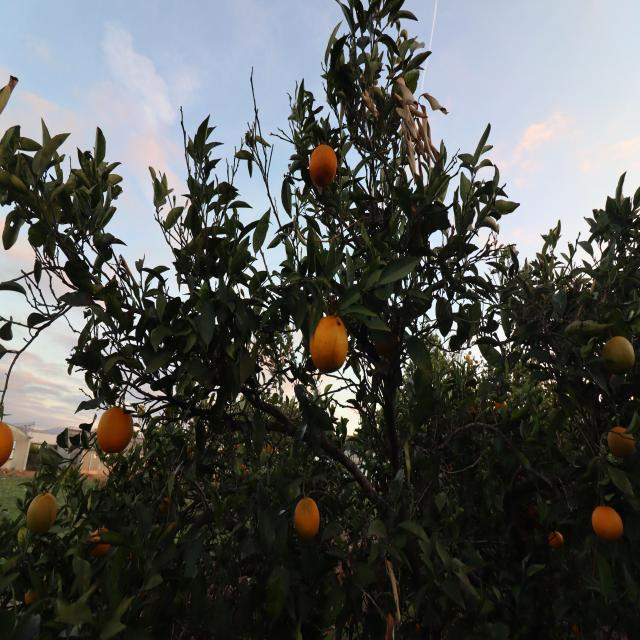Jeruk Belum Matang: (604, 337, 636, 368)
Jeruk Sudah Matang: (310, 315, 350, 375), (96, 406, 133, 454), (310, 143, 344, 191), (26, 494, 57, 534), (592, 508, 626, 540), (294, 494, 319, 536), (0, 421, 20, 468), (606, 429, 638, 458), (90, 528, 110, 554), (548, 528, 567, 550)
